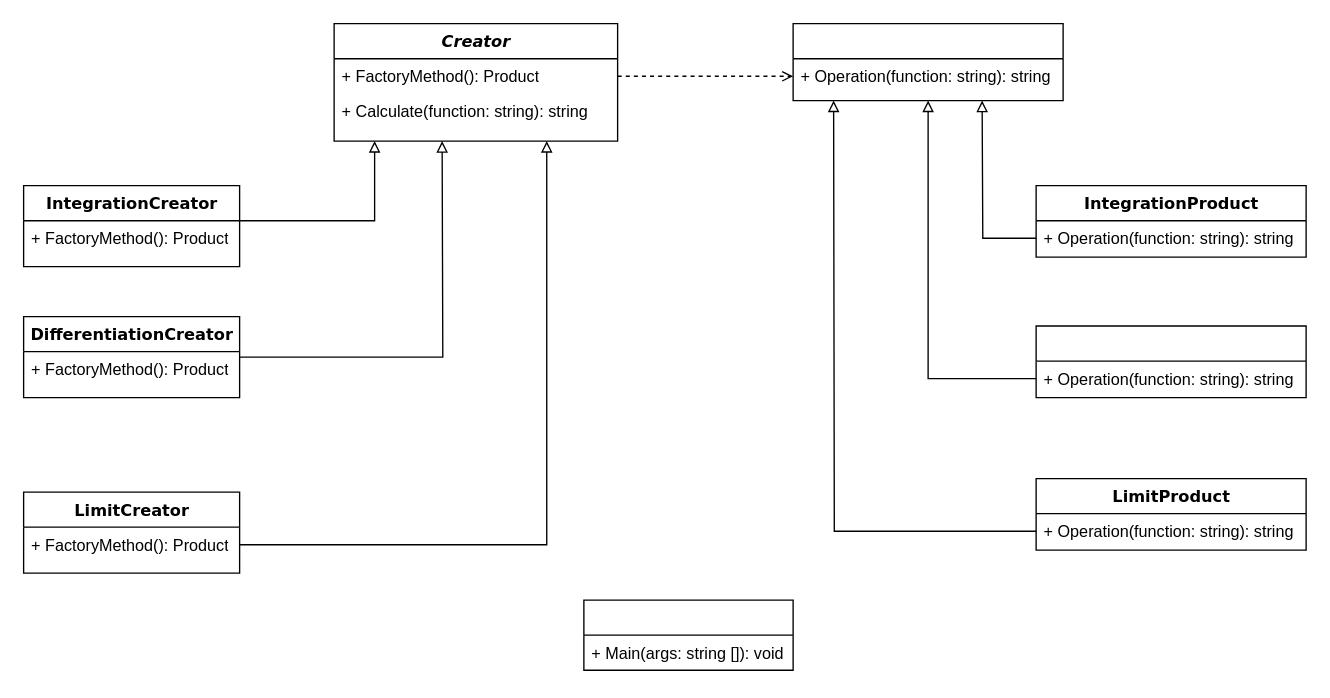
The diagram is 1330 pixels wide and 698 high, and some of its shapes have lost their labels. Here are the shapes that lost their labels. From the top down, the box of each, then its label:
(792, 22, 1063, 101): Product
(1035, 325, 1306, 398): DifferentiationProduct
(583, 599, 793, 670): Program
